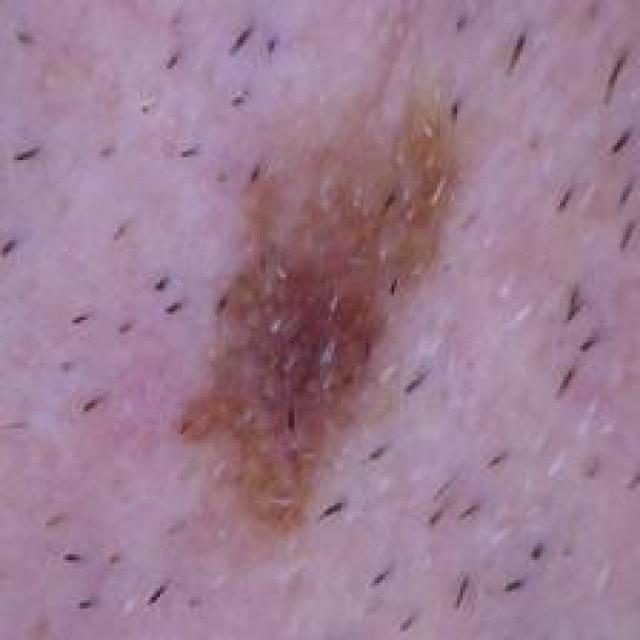Cancer: (203, 85, 460, 547)
